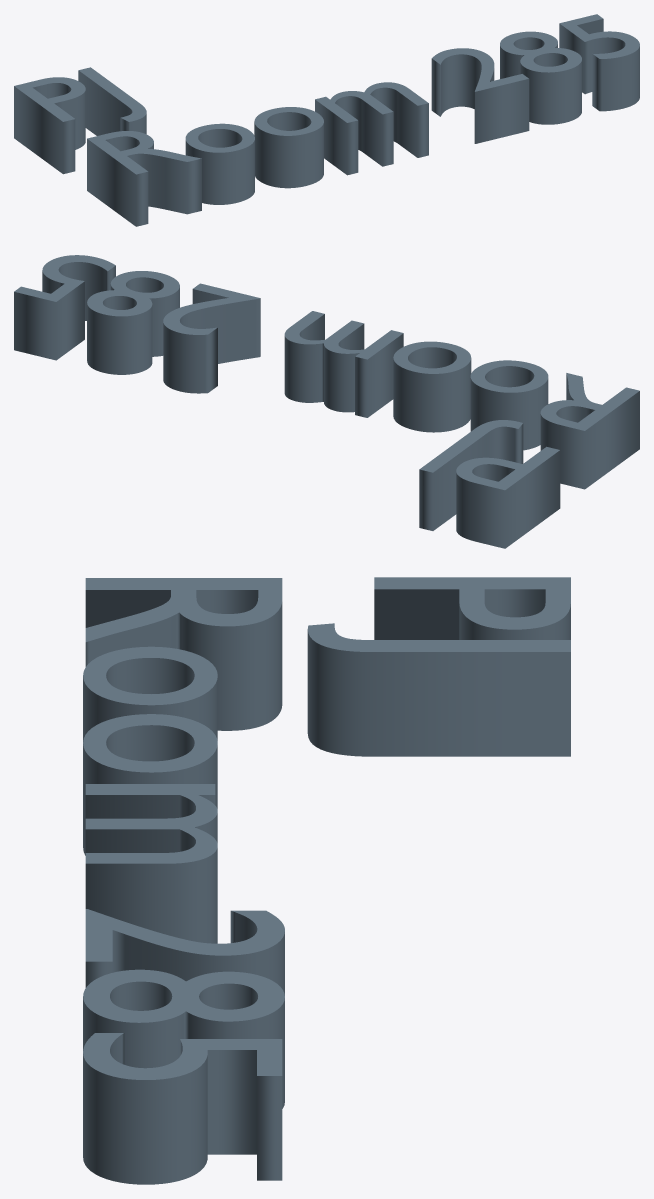
3 views of the same model, one above another, from view 1: azimuth 30°, elevation 25°; view 2: azimuth 150°, elevation 25°; view 3: azimuth 270°, elevation 25° (orthographic). The views are drawn at different scales.
Parts seen in each view (by area): view 1: Text; view 2: Text; view 3: Text.
Part boxes in pixels (<box>): Text: <box>14,14,639,226</box>; Text: <box>14,255,639,548</box>; Text: <box>83,577,570,1184</box>.
Bounding box in the file's own units: 4.13 × 0.4 × 1.69.
